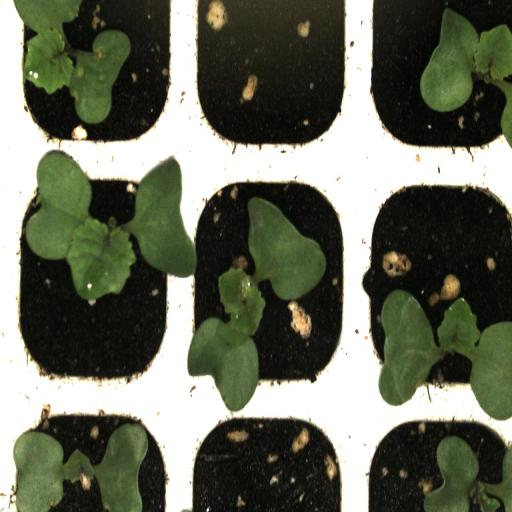Folha: (424, 436, 512, 512)
Germinacao: (8, 158, 190, 382), (190, 158, 354, 391), (358, 160, 512, 397), (13, 0, 190, 158), (357, 0, 512, 151), (10, 392, 182, 512)
